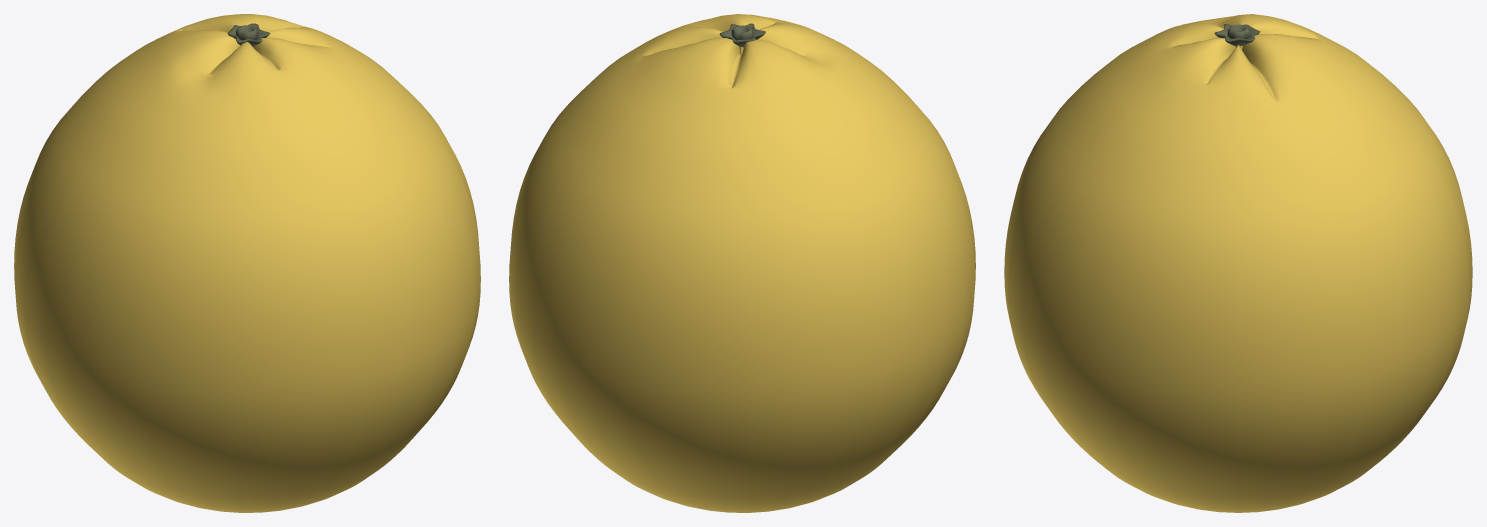
The model's file is yellow_orange.fbx.
3 renders of one model, left to right at view 1: azimuth 30°, elevation 25°; view 2: azimuth 150°, elevation 25°; view 3: azimuth 270°, elevation 25°, orthographic.
Visible parts, largest first — view 1: OrangePeel, OrangeFruitPeduncle; view 2: OrangePeel, OrangeFruitPeduncle; view 3: OrangePeel, OrangeFruitPeduncle.
Boxes of the visible parts, <box> form: OrangePeel: <box>14,14,480,512</box>; OrangeFruitPeduncle: <box>227,23,270,46</box>; OrangePeel: <box>509,14,975,512</box>; OrangeFruitPeduncle: <box>719,23,765,47</box>; OrangePeel: <box>1004,14,1472,512</box>; OrangeFruitPeduncle: <box>1214,24,1260,46</box>.
Size of what is drawn, in the model's own units: 5.76 by 5.76 by 6.26.
